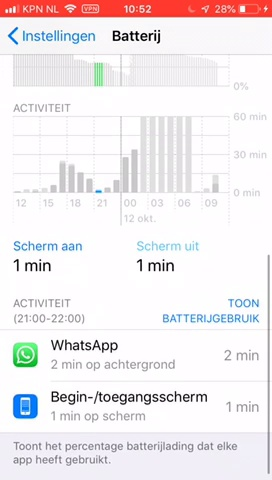activity: (10, 296, 93, 326)
app: (12, 336, 264, 377), (9, 386, 261, 427)
